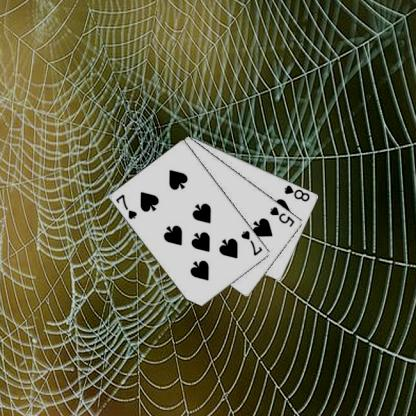5S: (268, 203, 297, 228)
7S: (238, 228, 264, 257), (113, 191, 138, 221)
8S: (282, 182, 311, 203)
